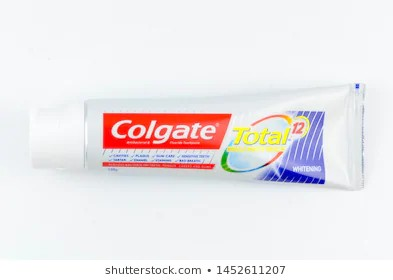colgate-total-150gm: (28, 80, 369, 191)
